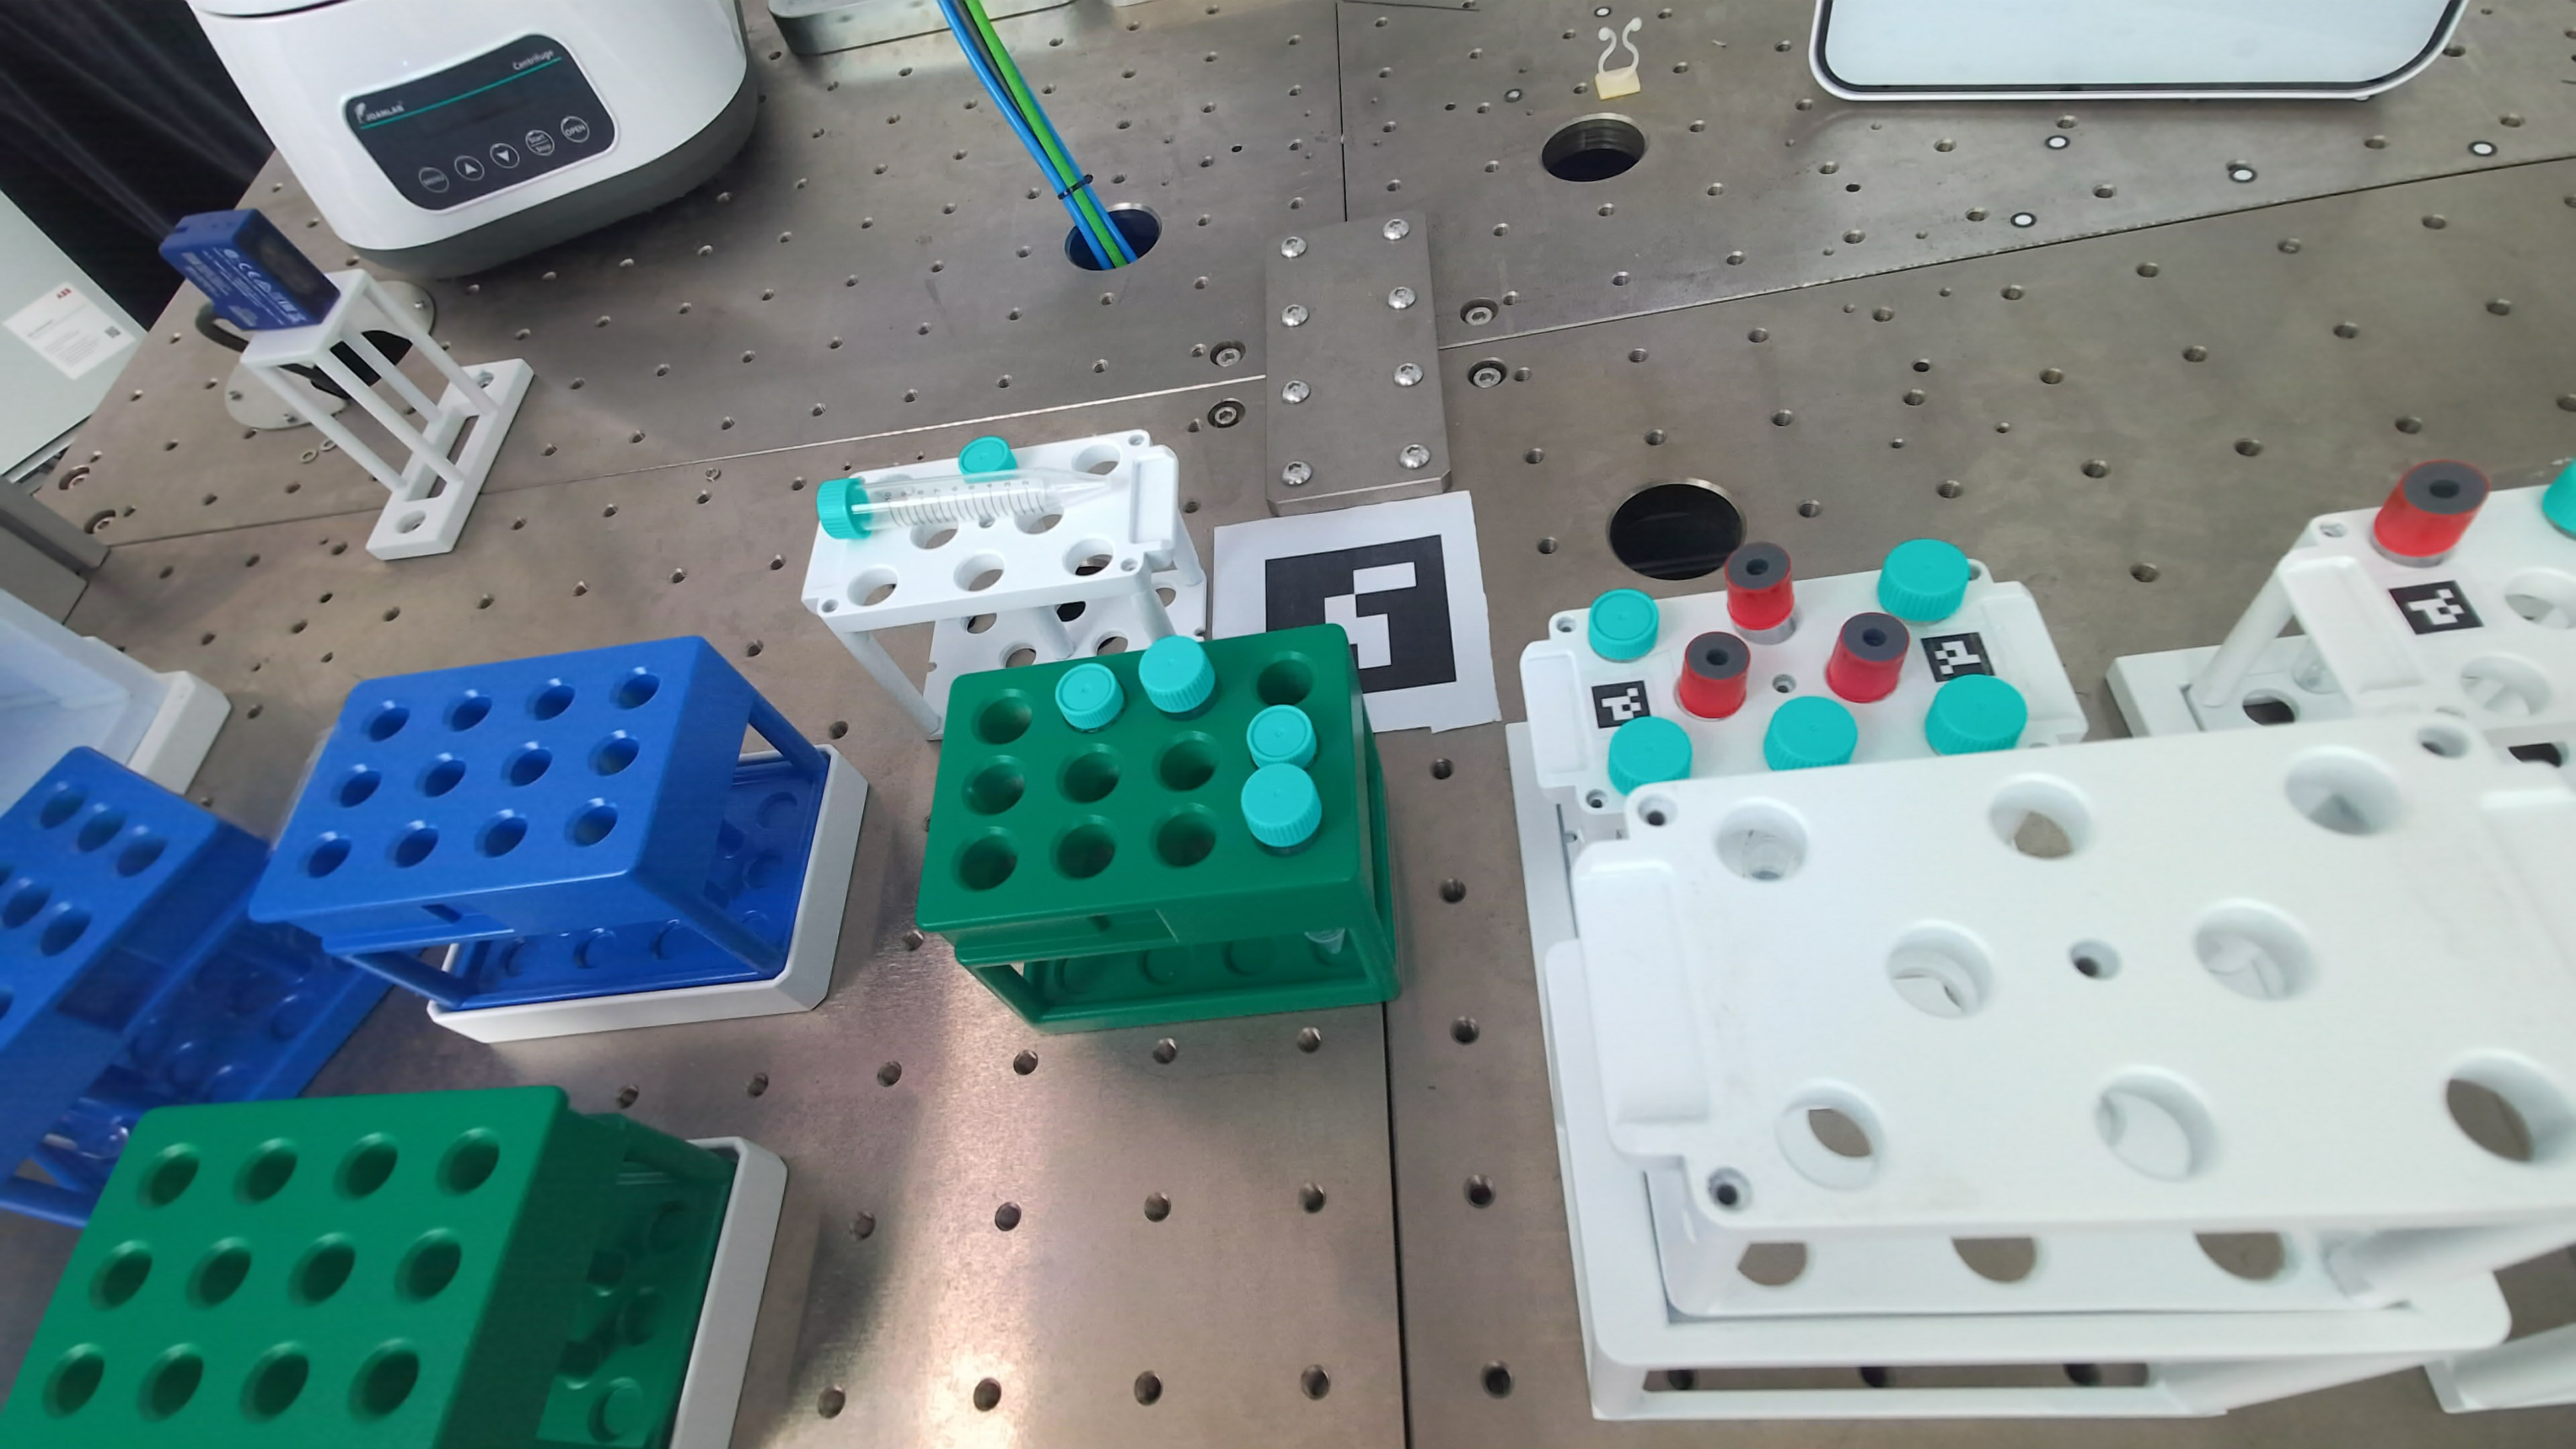10ML_centrifuge_tube: (817, 469, 1116, 540), (1925, 674, 2028, 755), (1877, 540, 1969, 621), (1240, 763, 1322, 851), (1762, 697, 1858, 770), (1606, 717, 1693, 794), (1138, 635, 1215, 715)
10ML_sorting_tube_rack: (251, 637, 830, 1008), (0, 747, 384, 1224)
5ML_centrifuge_tube: (1587, 589, 1660, 662), (1054, 660, 1123, 731), (1247, 706, 1316, 770), (957, 435, 1017, 476)
5ML_sorting_tube_rack: (0, 1088, 738, 1449), (916, 625, 1398, 1030)
blood_tube: (1675, 632, 1750, 718), (1725, 541, 1794, 633), (2399, 460, 2489, 517), (1838, 612, 1911, 663)
centrifuge_close: (193, 0, 759, 280)
dispensing_tube_rack: (1513, 474, 2576, 1419), (803, 432, 1207, 738)
refrigerator_close: (1810, 0, 2465, 101)
sorting_tube_rack_base: (428, 754, 867, 1044), (671, 1138, 787, 1449)
